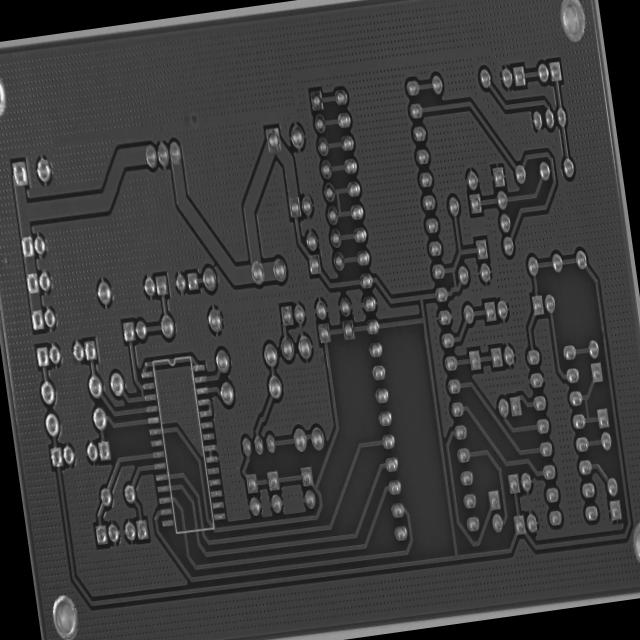short: (326, 182, 350, 225), (576, 389, 596, 429), (446, 260, 462, 294), (136, 381, 148, 402)
